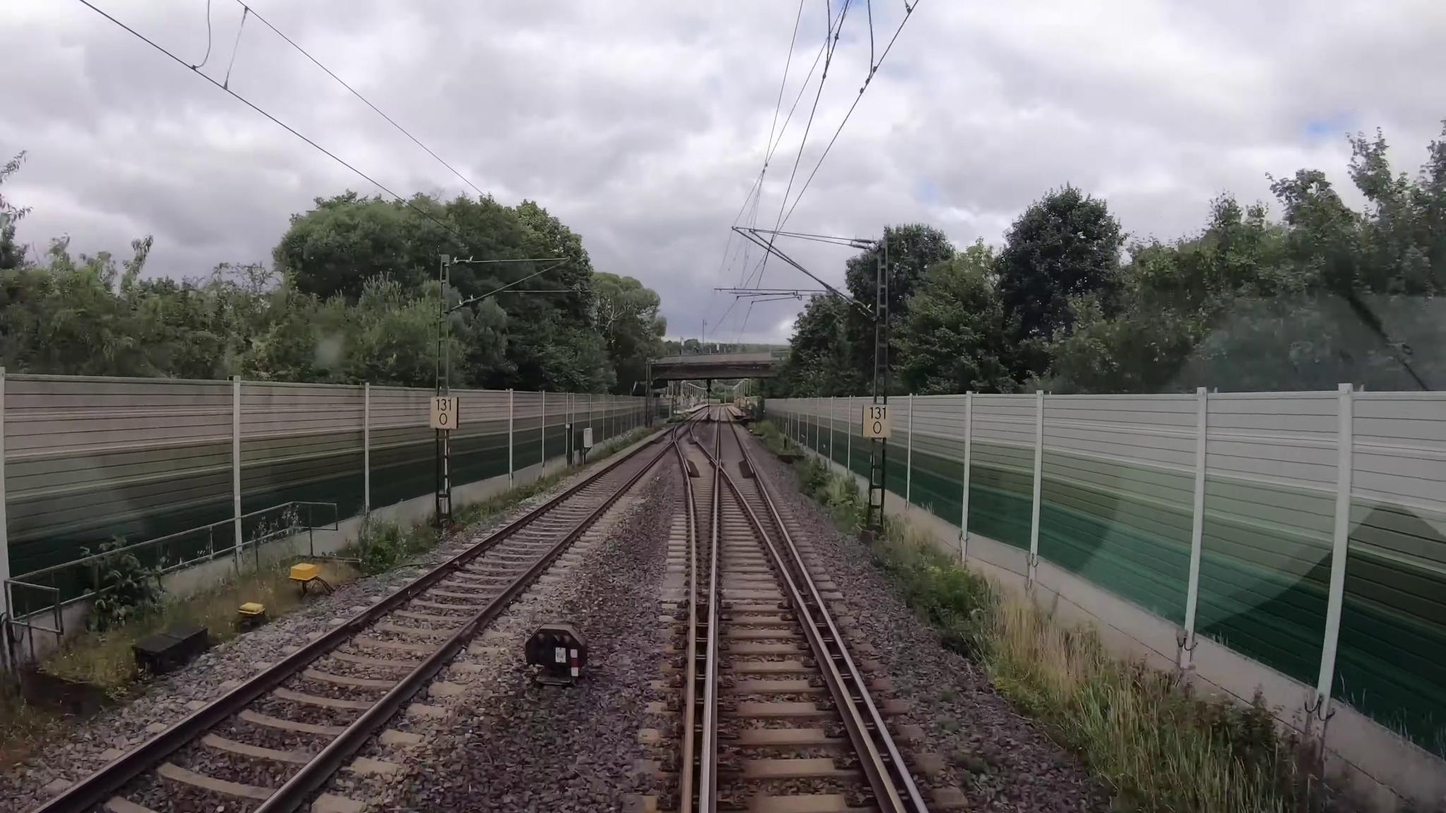Plant: (743, 418, 1392, 813), (4, 550, 367, 770), (346, 463, 579, 578)
